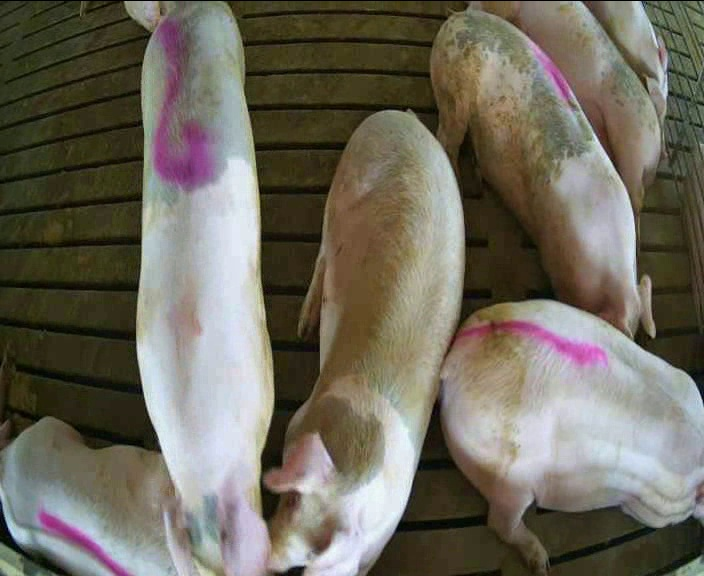pig: (265, 111, 464, 573), (136, 3, 273, 575), (431, 10, 653, 335), (441, 301, 703, 573), (587, 2, 667, 160)
